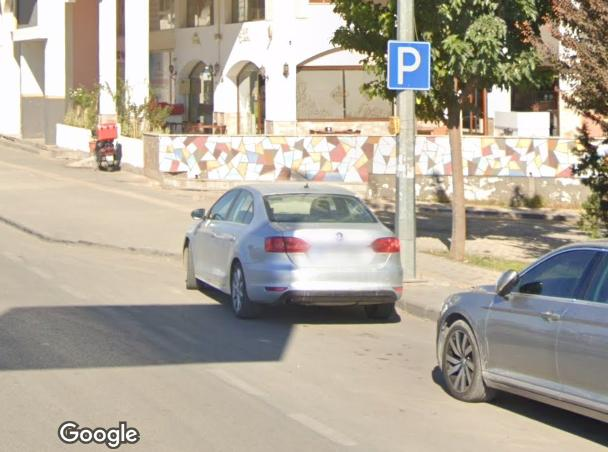park: (389, 42, 430, 89)
